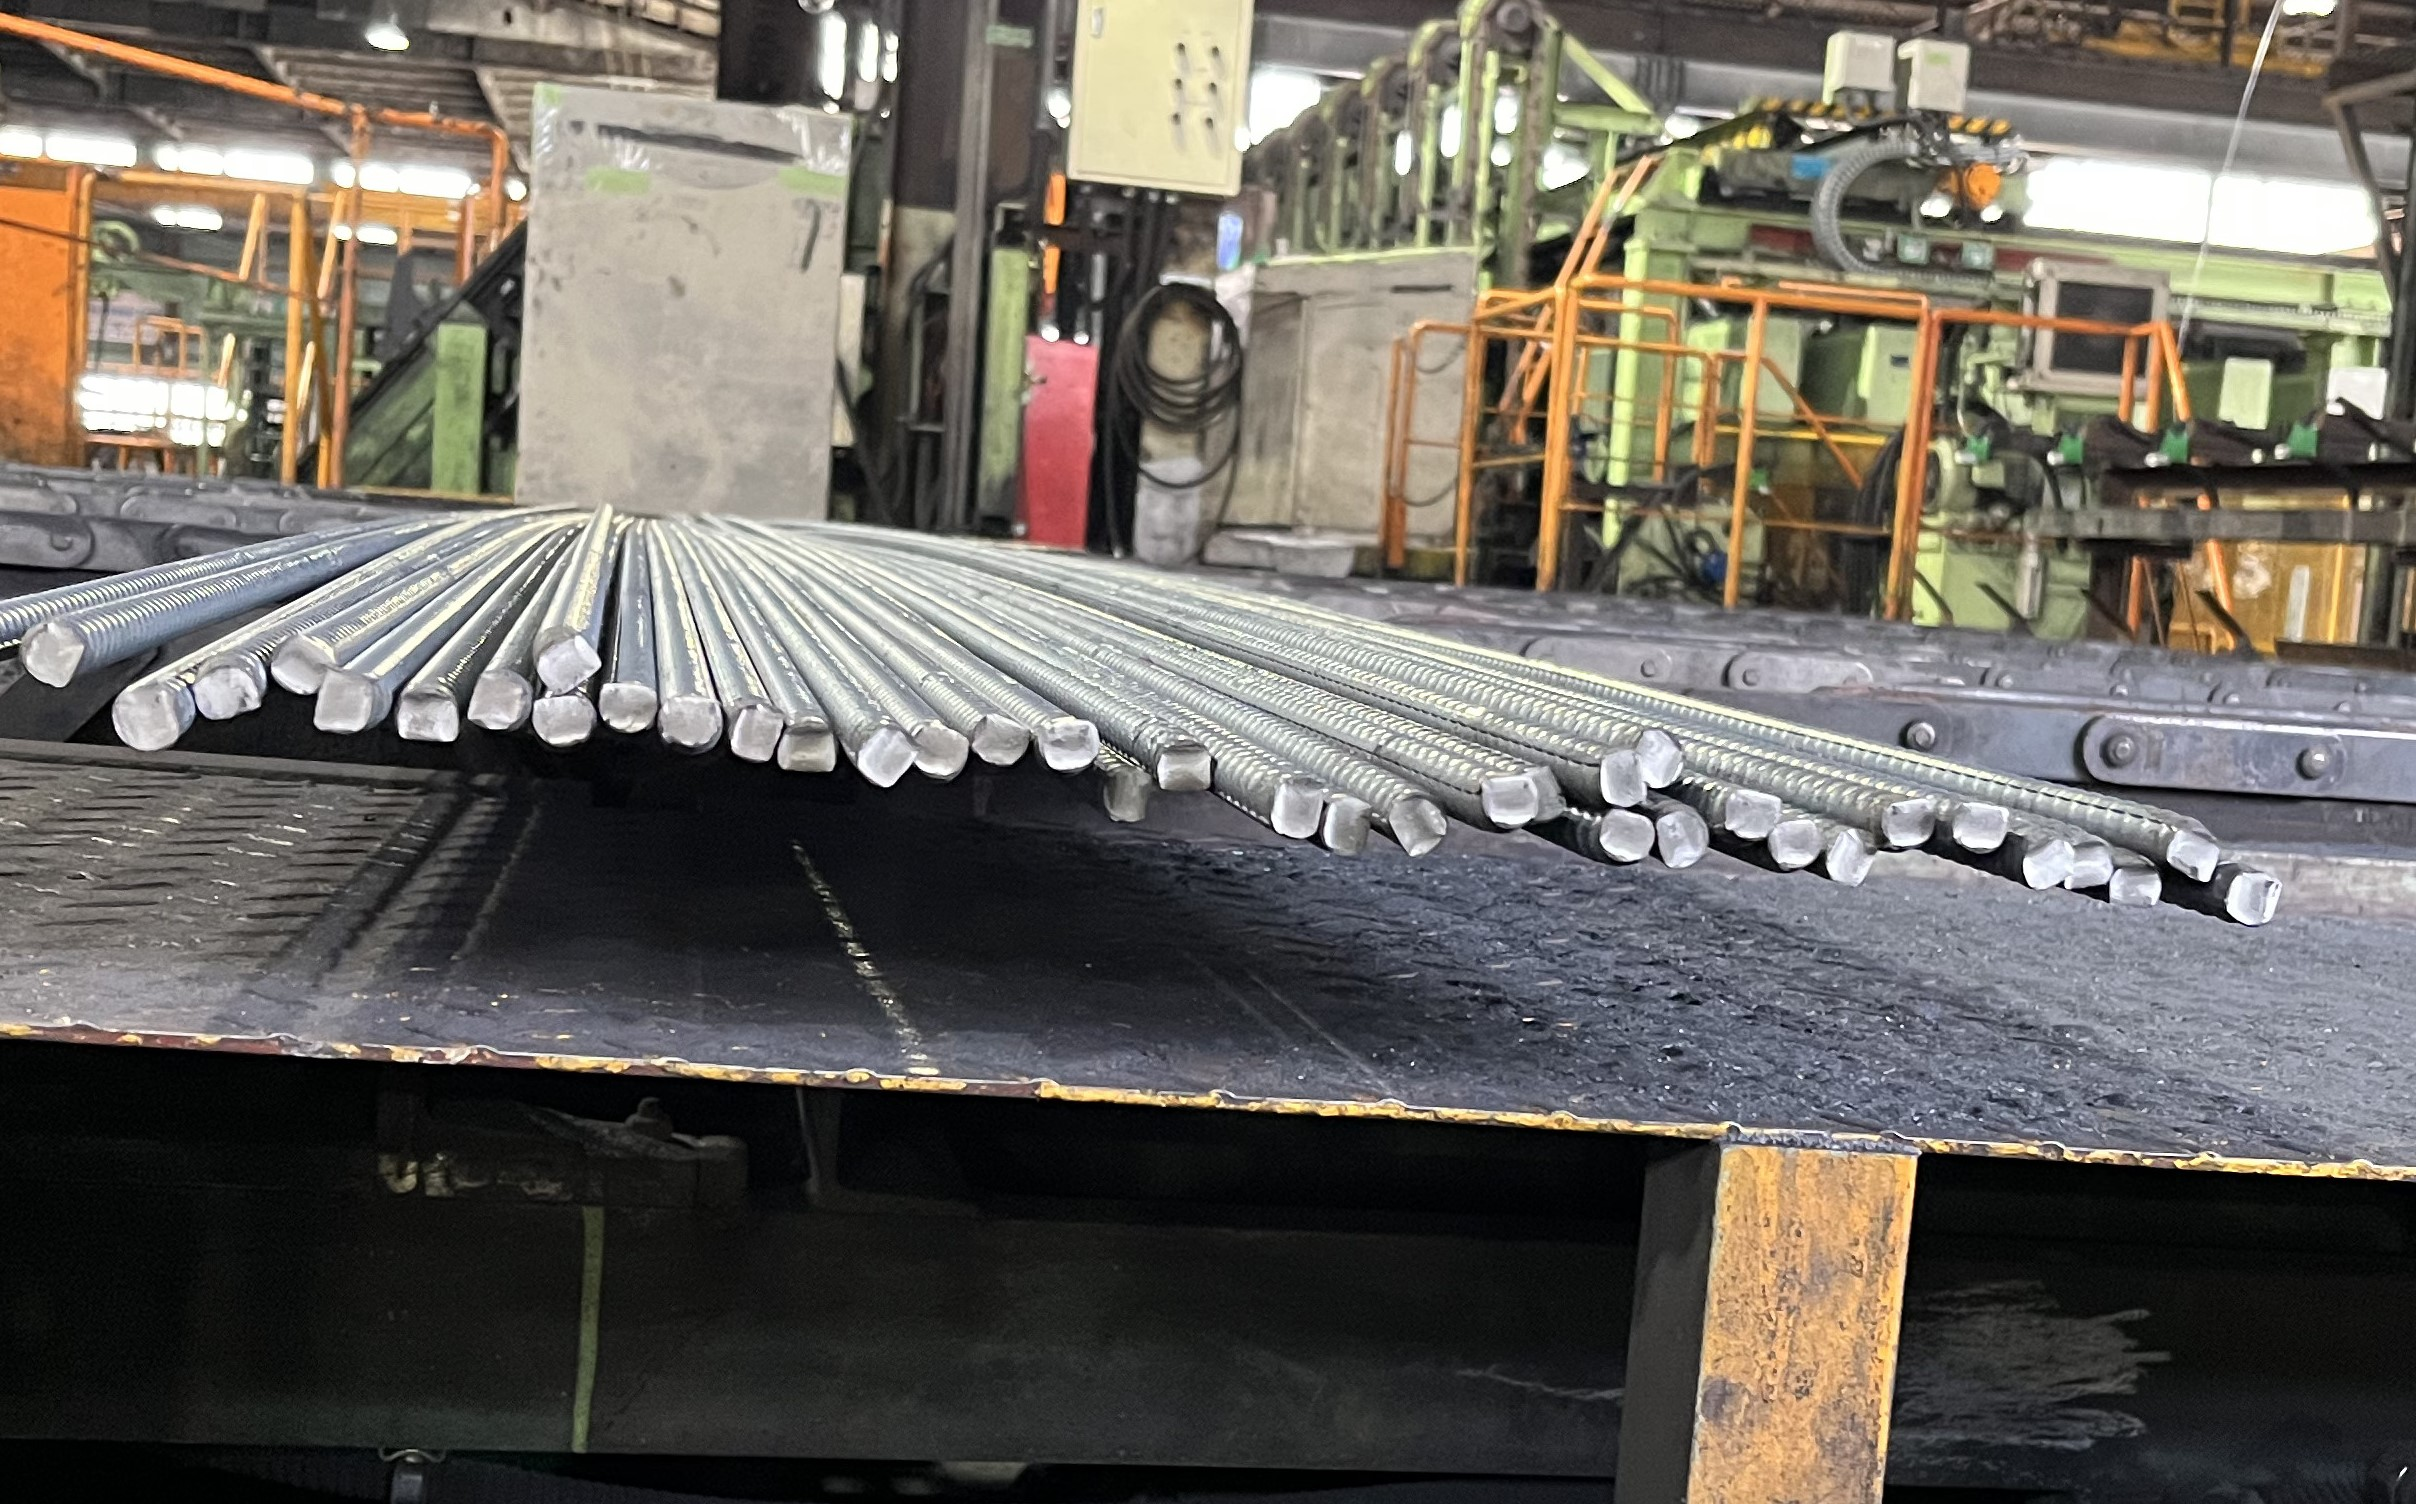rod: (109, 681, 184, 754), (17, 620, 87, 691), (466, 665, 533, 735), (268, 632, 339, 698), (854, 723, 921, 788), (312, 665, 376, 735), (533, 632, 604, 695), (1387, 790, 1450, 859), (191, 665, 262, 724), (1630, 724, 1689, 794), (656, 695, 724, 754), (393, 686, 461, 743), (1654, 807, 1713, 872), (1597, 806, 1657, 866), (1268, 775, 1323, 840), (1950, 797, 2011, 856), (970, 710, 1032, 768), (1037, 716, 1100, 773), (1155, 740, 1218, 797), (731, 702, 786, 766), (532, 695, 598, 749), (913, 721, 972, 780), (1481, 775, 1541, 832), (1765, 818, 1825, 875), (2019, 835, 2080, 892), (1321, 795, 1377, 858), (774, 721, 838, 775), (598, 679, 658, 735), (1100, 762, 1153, 825), (1722, 788, 1786, 840), (1879, 799, 1940, 852), (2167, 827, 2222, 884), (1599, 749, 1649, 807), (1824, 827, 1872, 887), (2225, 868, 2276, 925), (2064, 839, 2116, 892), (1526, 762, 1571, 823), (2108, 863, 2163, 910)
